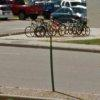Bicycle: (24, 13, 91, 41)
